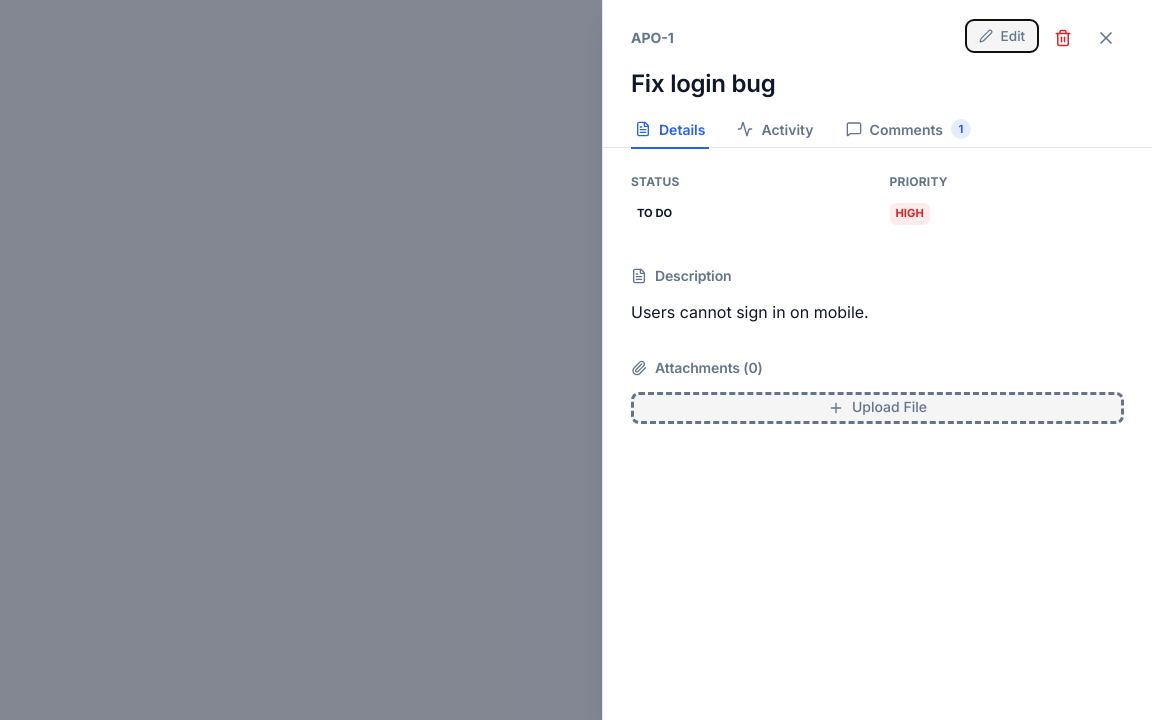
Test: IssueDetailPanel tabs › shows details tab by default and switches to activity and comments
expect the text "Users cannot sign in on mobile." is shown: met, box [631,302,869,322]
Click the tab "Activity" at (776, 130), box [734,111,818,149]
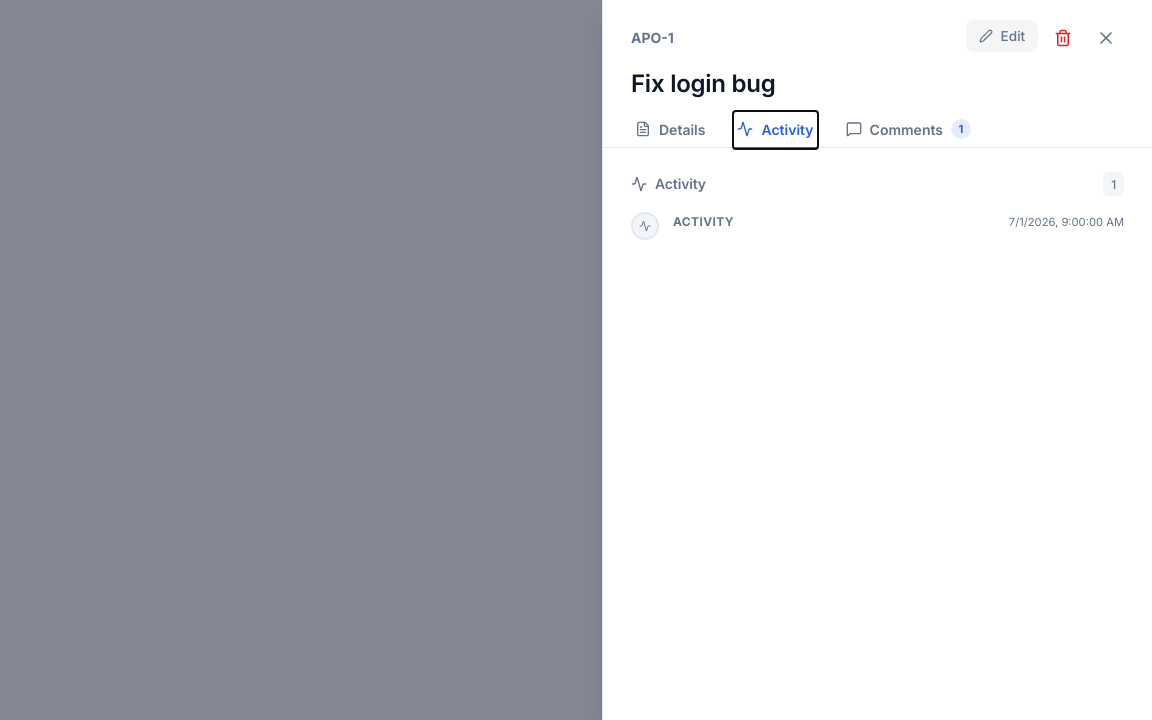
expect the text "Users cannot sign in on mobile." is gone: met
Click the tab "Comments 1" at (908, 130), box [842,111,975,149]
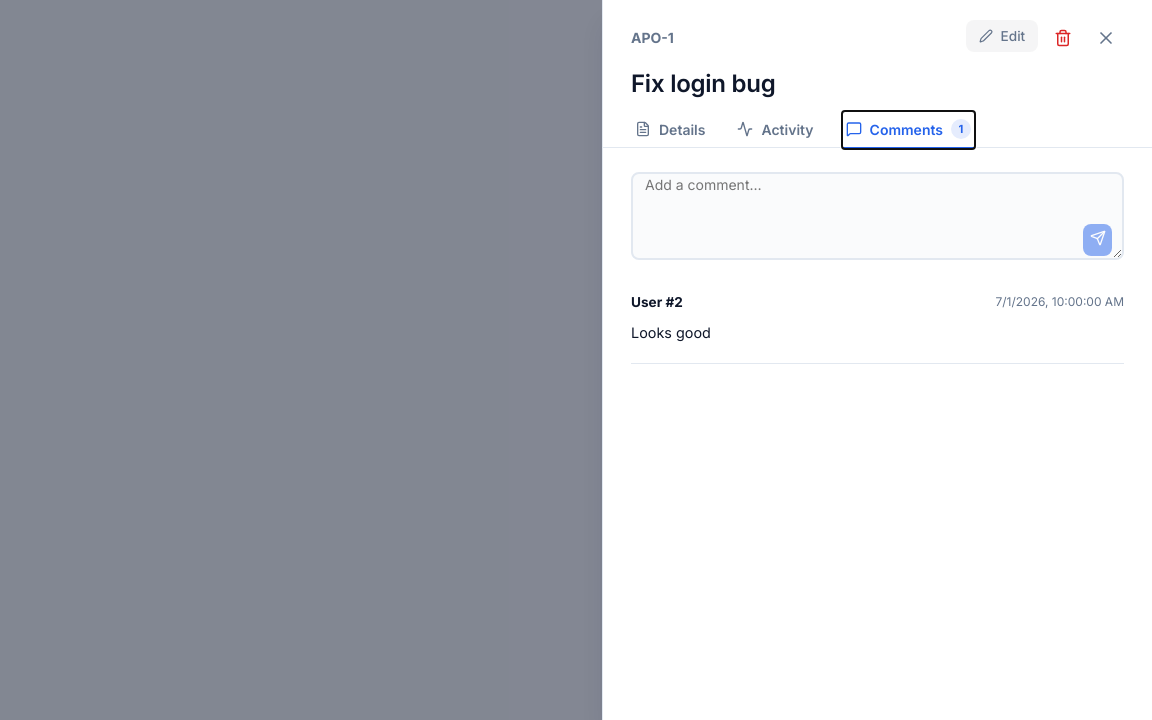
expect the text "Looks good" is shown: met, box [631,324,711,340]
